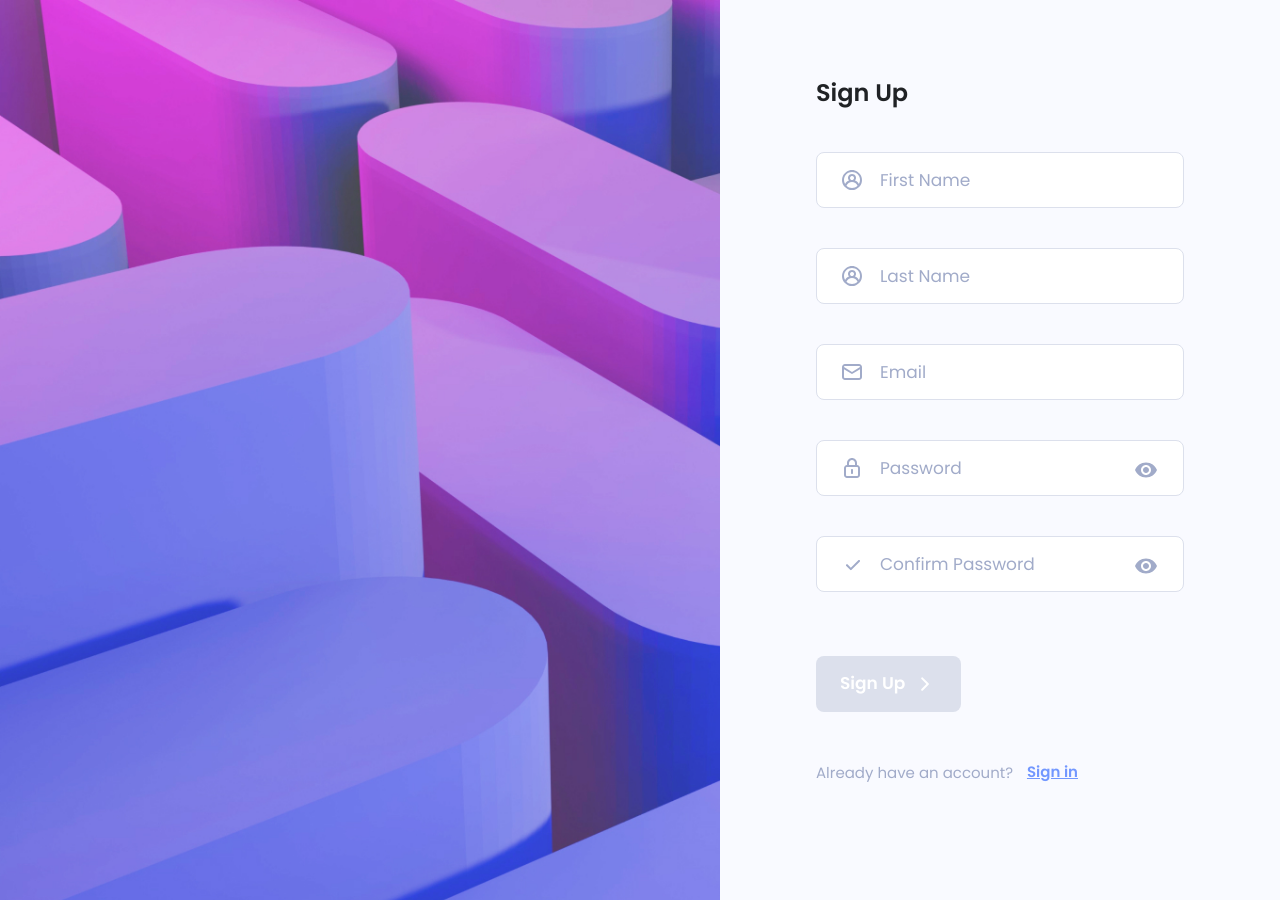
Test: router › should render correct sign in page when click on sign in link
Click the link "Sign in": (1052, 772) [1027,762,1078,783]
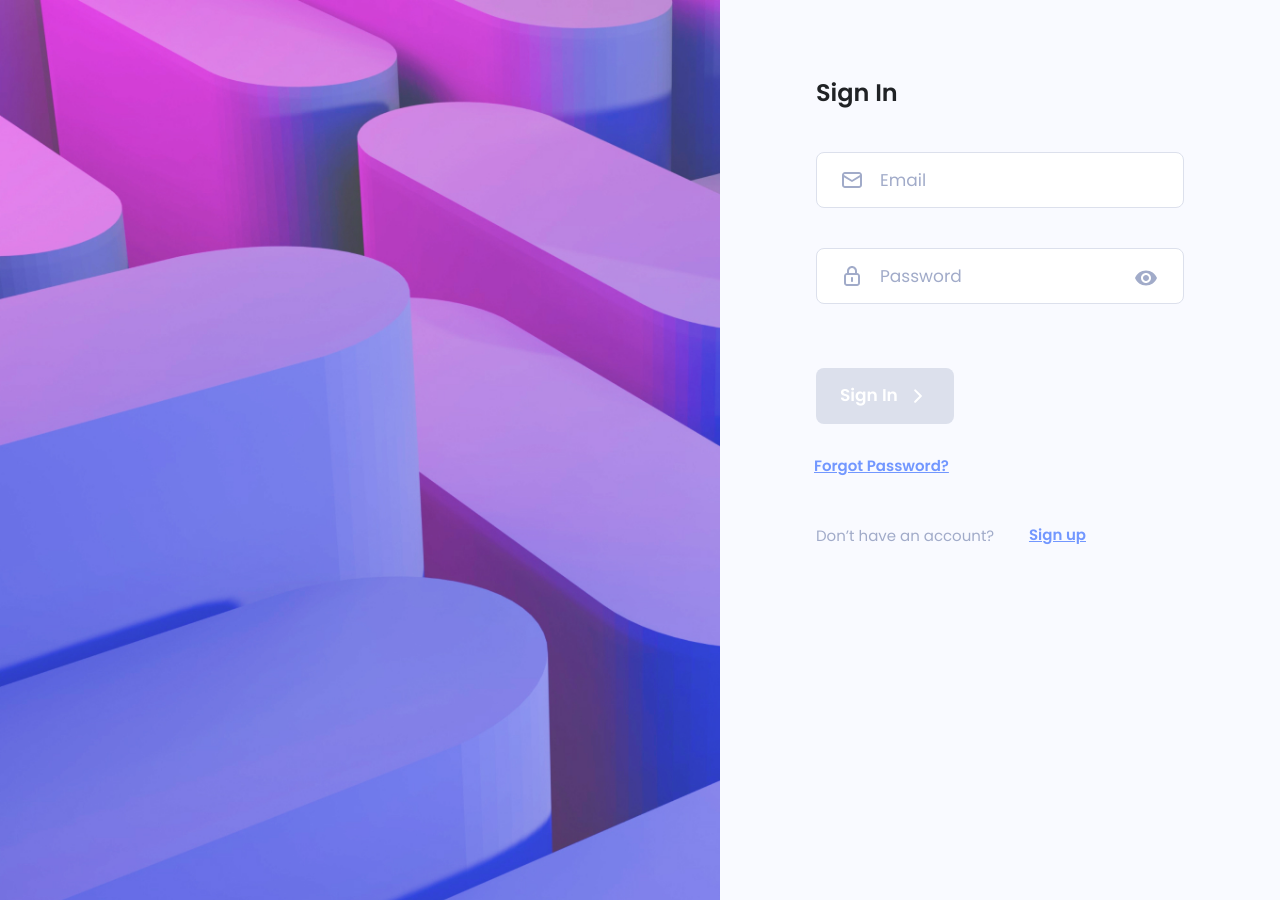
Expected: the link "Forgot Password?" is shown, [814,456,949,475]
